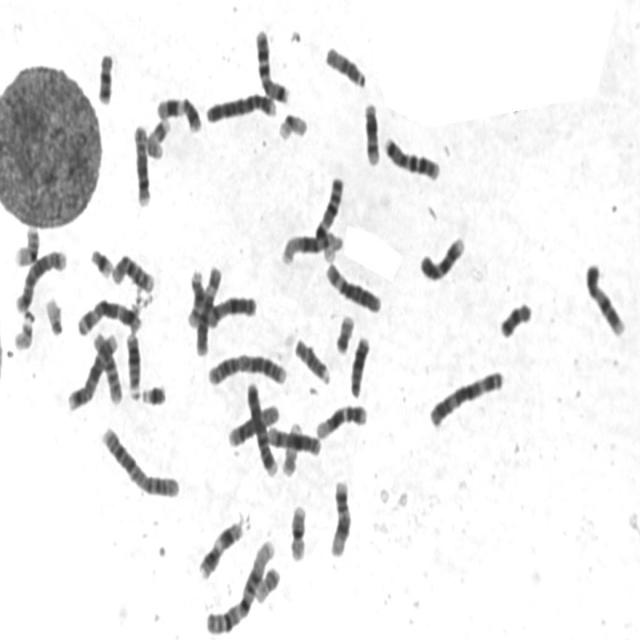A1: (201, 532, 277, 637), (277, 170, 346, 268)
A2: (97, 419, 182, 501), (203, 345, 289, 388)
A3: (424, 362, 506, 430), (72, 292, 144, 338)
B4: (242, 375, 280, 477), (202, 85, 278, 124)
B5: (63, 326, 120, 412), (11, 242, 68, 314)
C10: (88, 326, 124, 406), (108, 246, 156, 294)
C11: (194, 513, 244, 581), (152, 88, 203, 134)
C12: (312, 396, 369, 441), (326, 474, 352, 558)
C6: (322, 256, 383, 315), (192, 258, 224, 358)
C7: (251, 20, 292, 104), (380, 128, 442, 183)
C8: (224, 396, 281, 449), (129, 117, 152, 209)
C9: (581, 255, 627, 339), (415, 229, 468, 283)
D13: (346, 329, 372, 399), (122, 325, 143, 401)
D14: (358, 93, 382, 168), (182, 270, 209, 332)
D15: (321, 39, 368, 90), (290, 330, 332, 386)
E16: (285, 497, 309, 564), (10, 218, 41, 268)
E17: (278, 416, 303, 477), (142, 111, 172, 160)
E18: (496, 294, 534, 340), (93, 44, 116, 106)
F19: (274, 105, 310, 142), (322, 230, 344, 266)
F20: (251, 559, 283, 604), (331, 308, 356, 355)
G21: (86, 240, 114, 280), (136, 376, 168, 408)
G22: (9, 303, 36, 352), (40, 290, 64, 338)
X: (263, 419, 322, 457), (203, 294, 257, 332)
